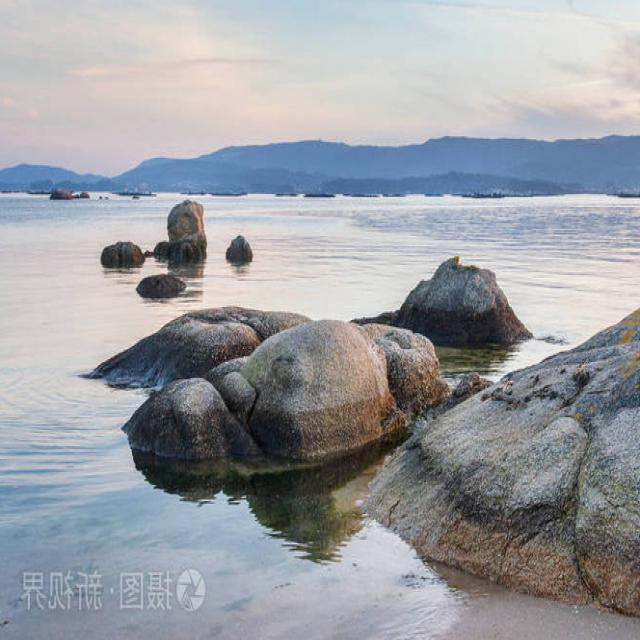reef: (80, 306, 440, 505), (100, 196, 285, 287), (381, 260, 534, 340)
